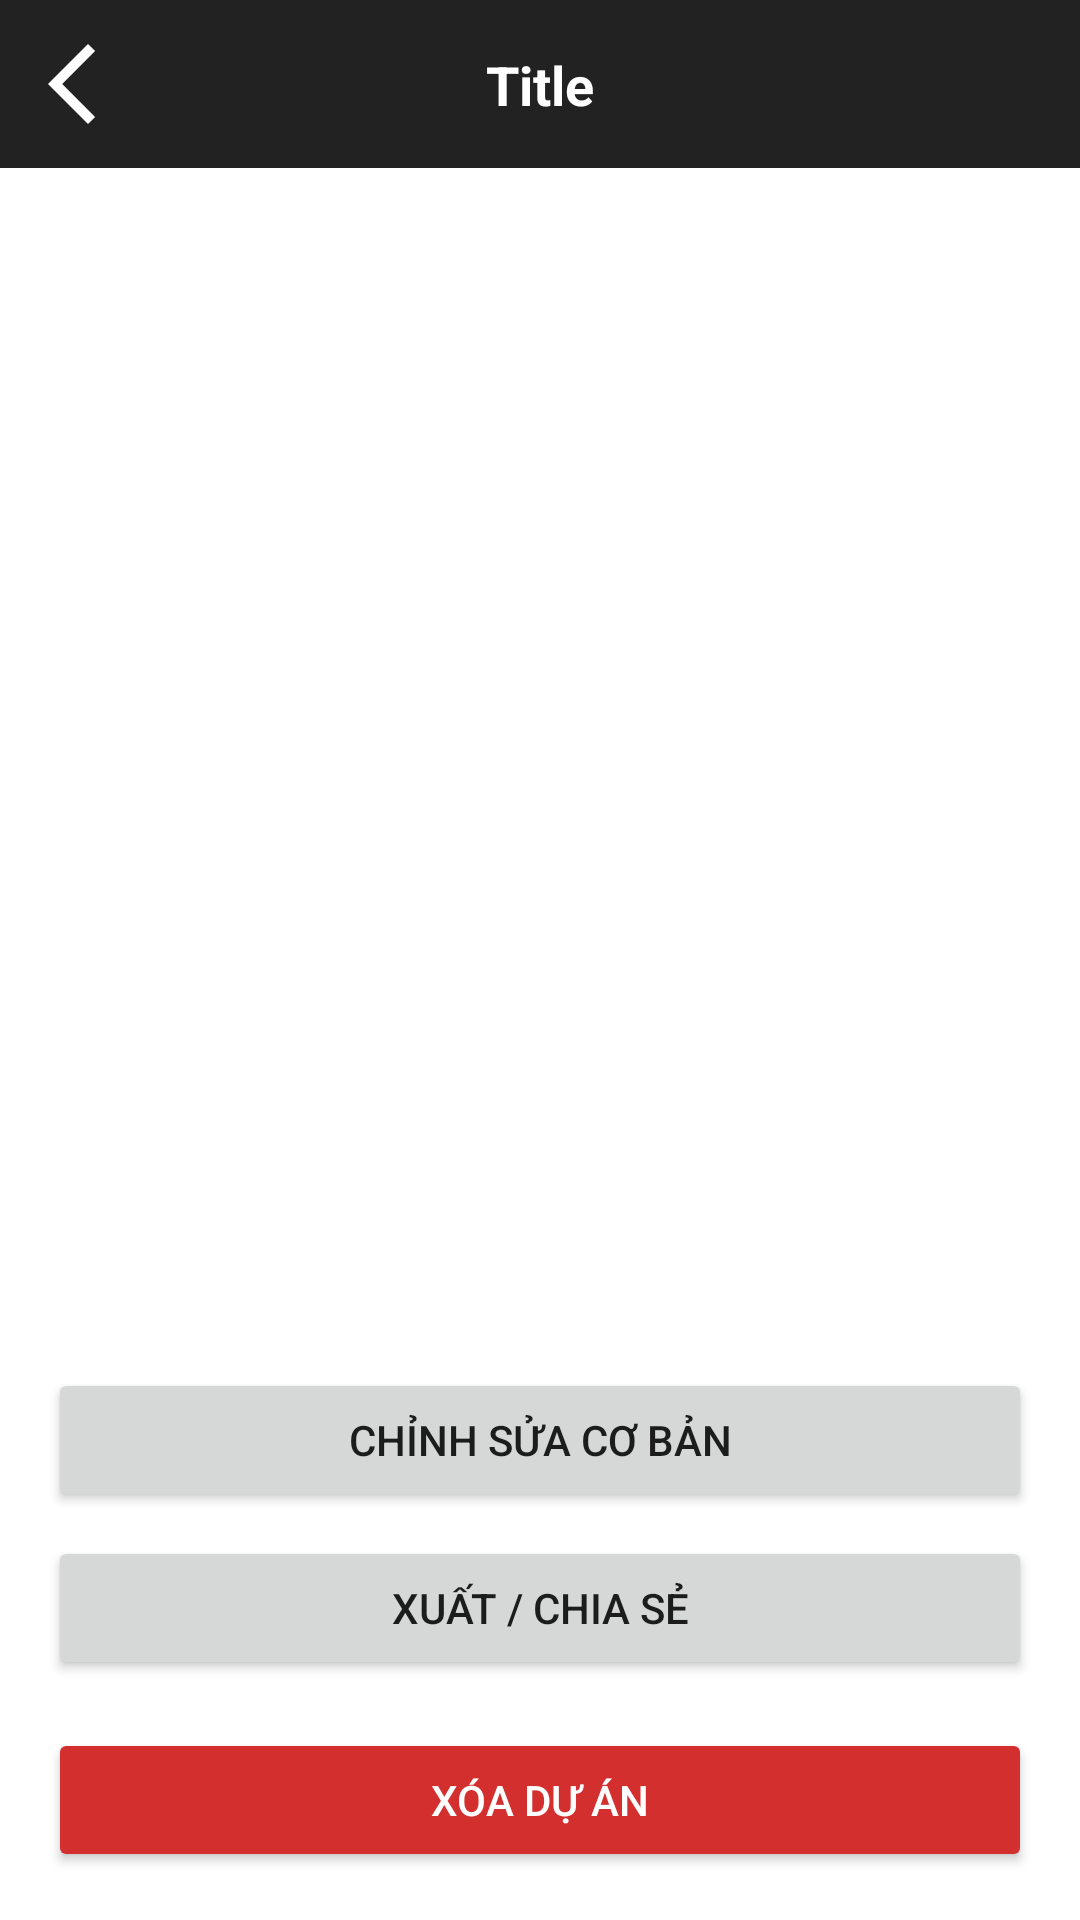

Icons on this 1080w x 1920h Android screen, each with its box as (x1, y1, x2, y2):
arrow back: (48, 44, 95, 124)
